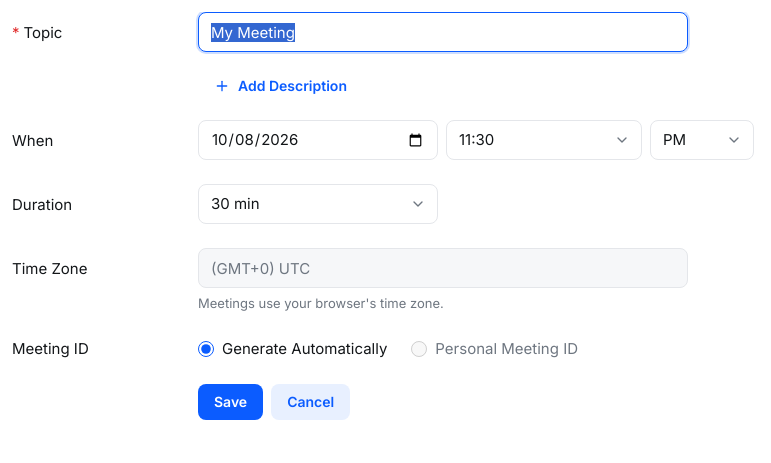
Scenario: ScheduleMeetingForm › shows server-side validation errors next to the field
Step 1. Click the button "Save" → (231, 402), box [198, 384, 263, 420]
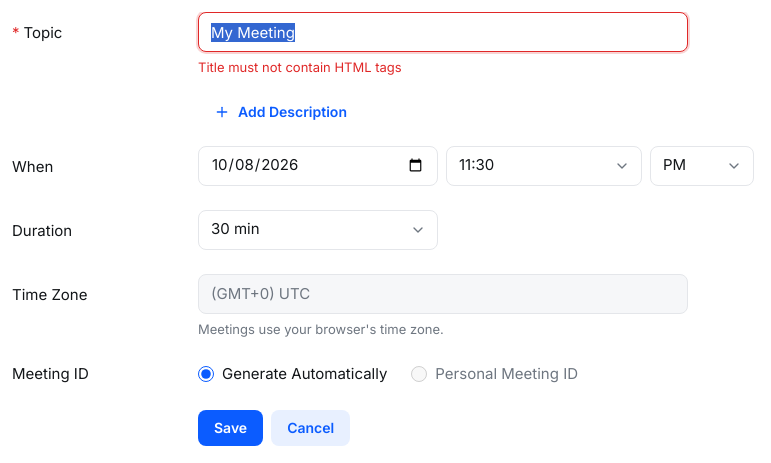
Expected: the text "Title must not contain HTML tags" is shown, [198, 59, 402, 75]
